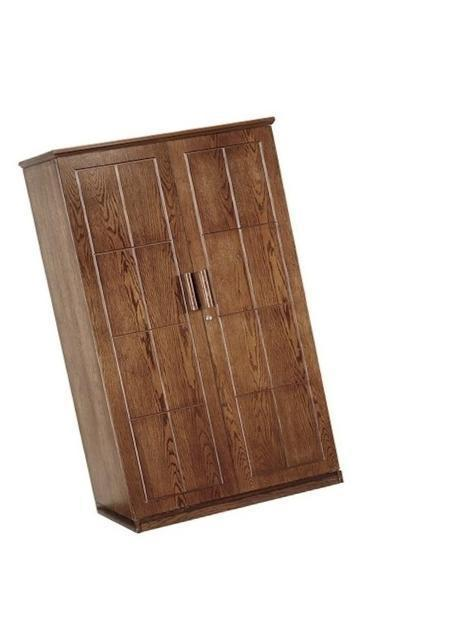Armario: (15, 112, 350, 545)
